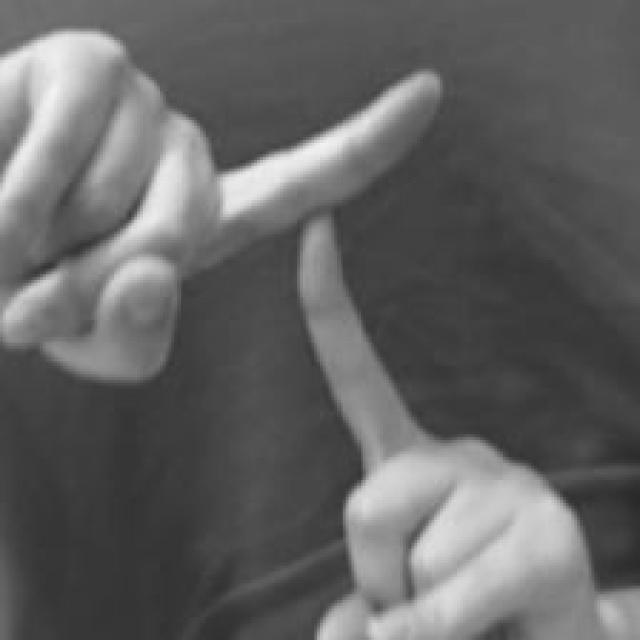T: (3, 23, 597, 640)
